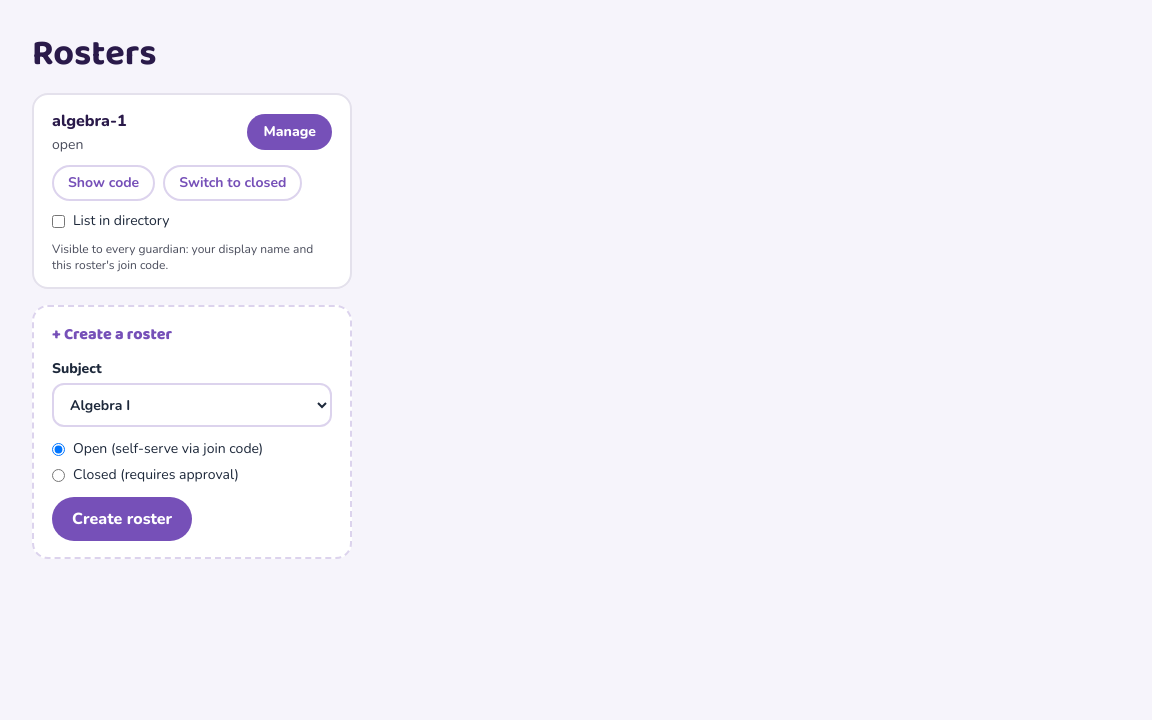
RostersFlow assign-a-quiz form › blocks submission when topic ids is empty
Click the button "Manage" at coordinates (290, 132), box [248,114,332,150]
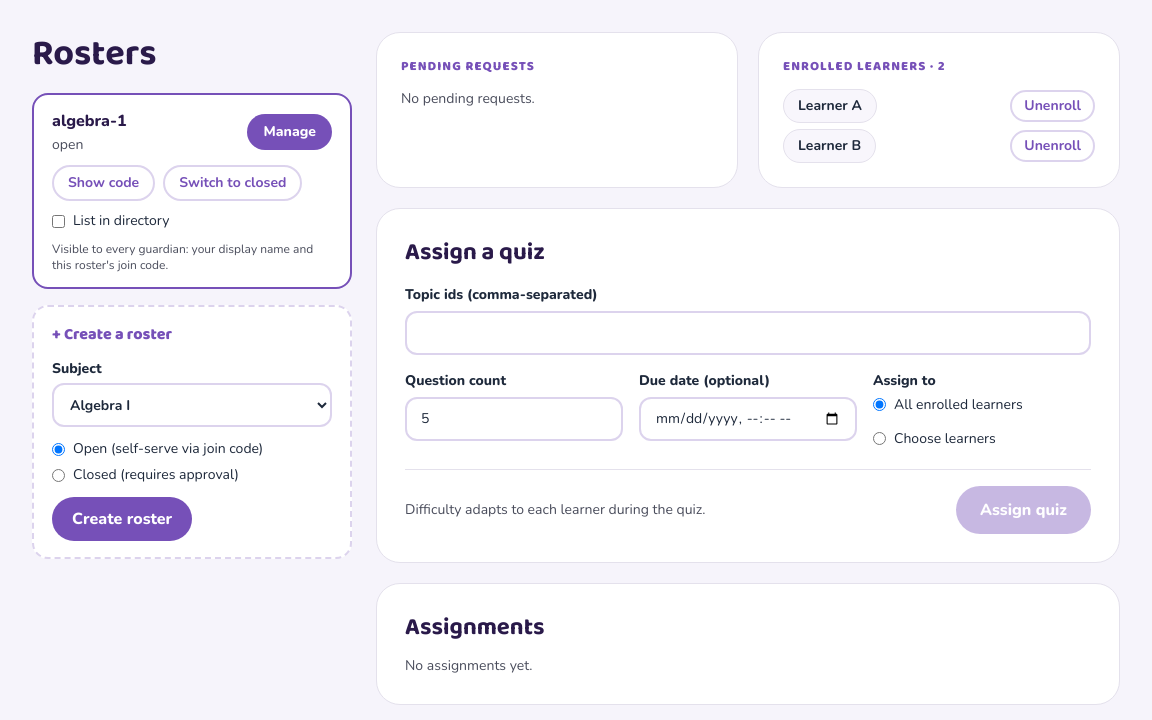
Result: the form with test id "assign-quiz-form" is shown at [376,208,1120,562]
Result: the button "Assign quiz" is disabled at [956,486,1091,534]
